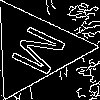M: (9, 24, 77, 82)
